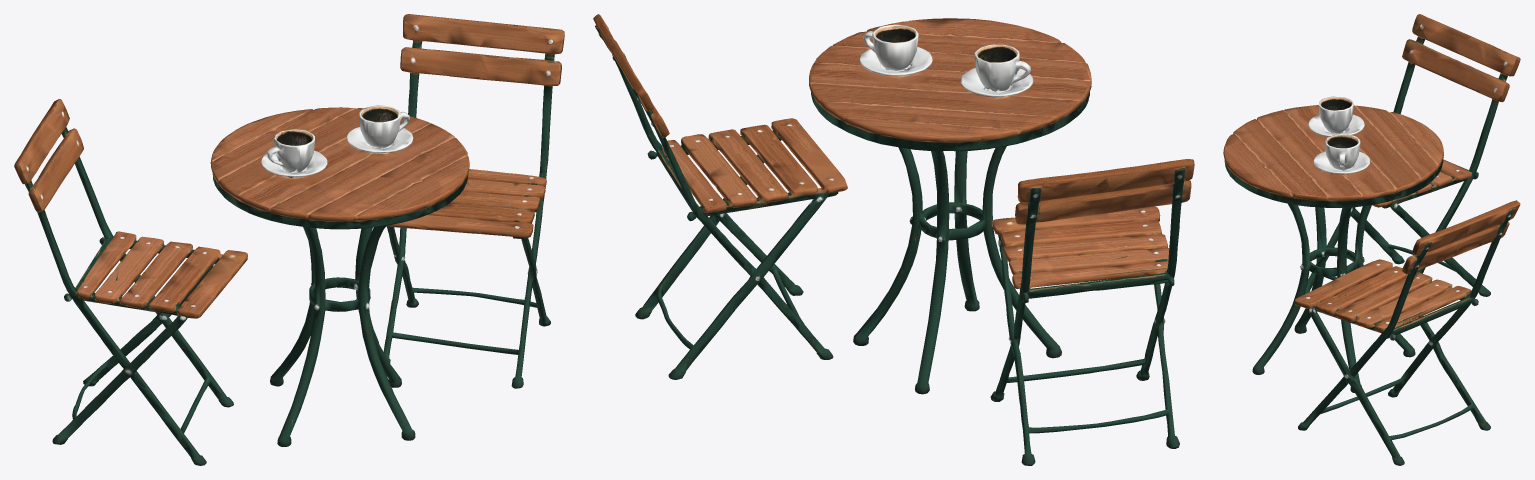
File: table.glb
The picture shows the model from 3 angles, left to right: view 1: azimuth 30°, elevation 25°; view 2: azimuth 150°, elevation 25°; view 3: azimuth 270°, elevation 25°; orthographic projection. The views are drawn at different scales.
Bounding box in the file's own units: 1.9 × 0.9404 × 1.05.
Materials: 1 (1 with a texture image).
